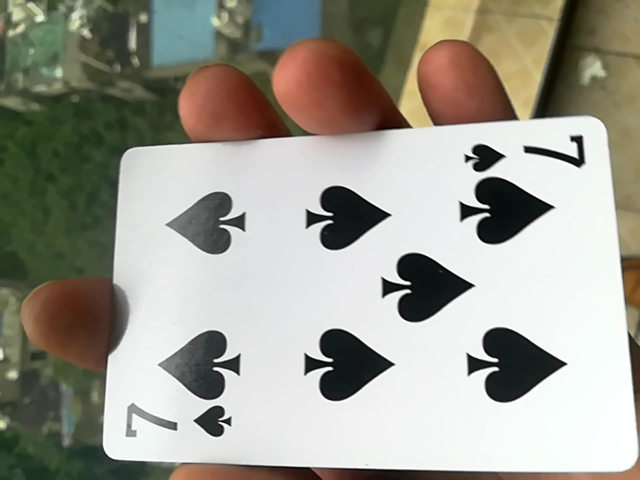ht 7: (93, 120, 631, 479)
